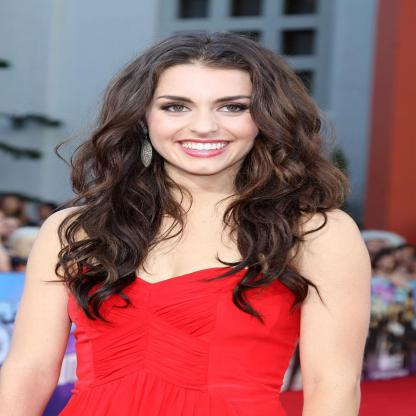long-hair: (53, 176, 366, 242)
